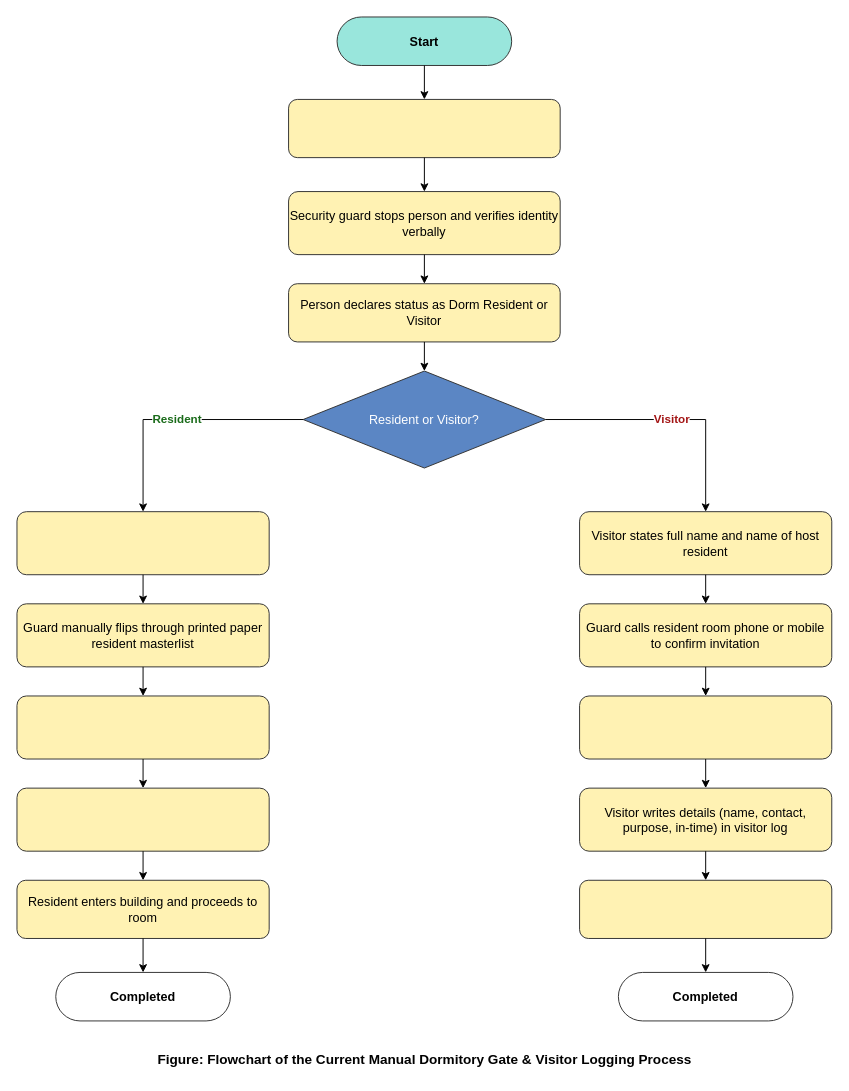
This 849x1091 diagram has some shape labels left out. Each missing label, with the centre of its shape:
Guard manually tracks curfew hours on paper slip and admits visitor: the point at 705,908
Guard verifies signature and unlocks entrance gate: the point at 142,819
Person arrives at dormitory entrance gate: the point at 424,128
Resident manually writes name, room number, date & time in logbook: the point at 142,727
Resident presents physical dorm ID card or student ID: the point at 142,543
Visitor surrenders physical valid ID in exchange for paper visitor badge: the point at 705,727
